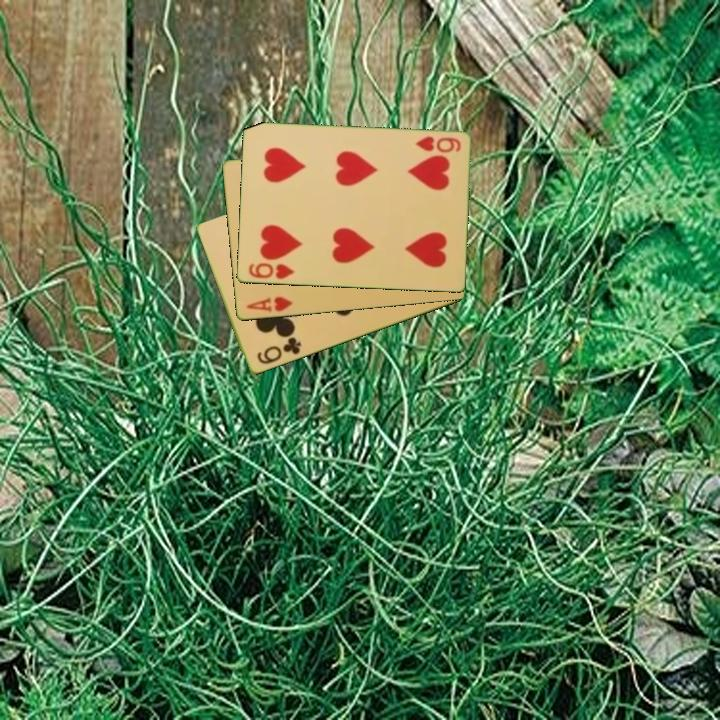6c: (253, 334, 304, 368)
6h: (412, 133, 463, 156), (245, 260, 297, 282)
Ah: (243, 293, 296, 315)
